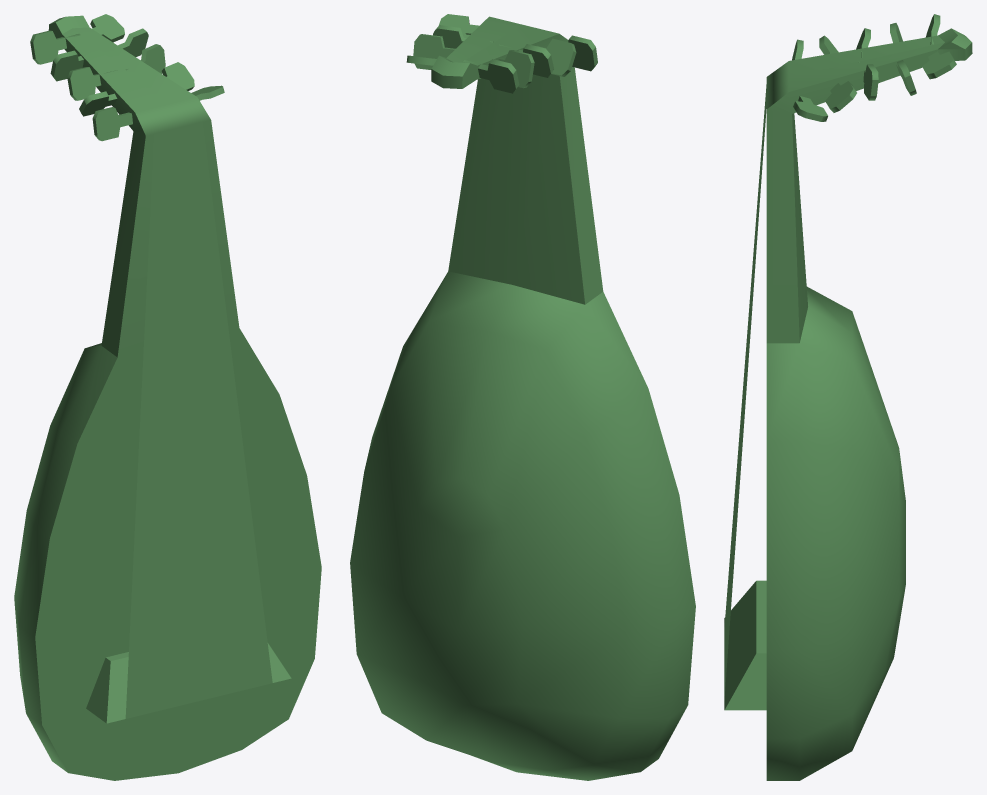
File: Bard_Weapon_Living.fbx
3 renders of one model, left to right at view 1: azimuth 30°, elevation 25°; view 2: azimuth 150°, elevation 25°; view 3: azimuth 270°, elevation 25°, orthographic. The views are drawn at different scales.
Parts seen in each view (by area): view 1: Bard_Weapon_Living; view 2: Bard_Weapon_Living; view 3: Bard_Weapon_Living.
Boxes of the visible parts, bbox=[...] form: Bard_Weapon_Living: bbox=[14, 14, 321, 780]; Bard_Weapon_Living: bbox=[350, 14, 695, 780]; Bard_Weapon_Living: bbox=[724, 14, 972, 780].
Size of the model in its own units: 57.72 by 133 by 42.28.
